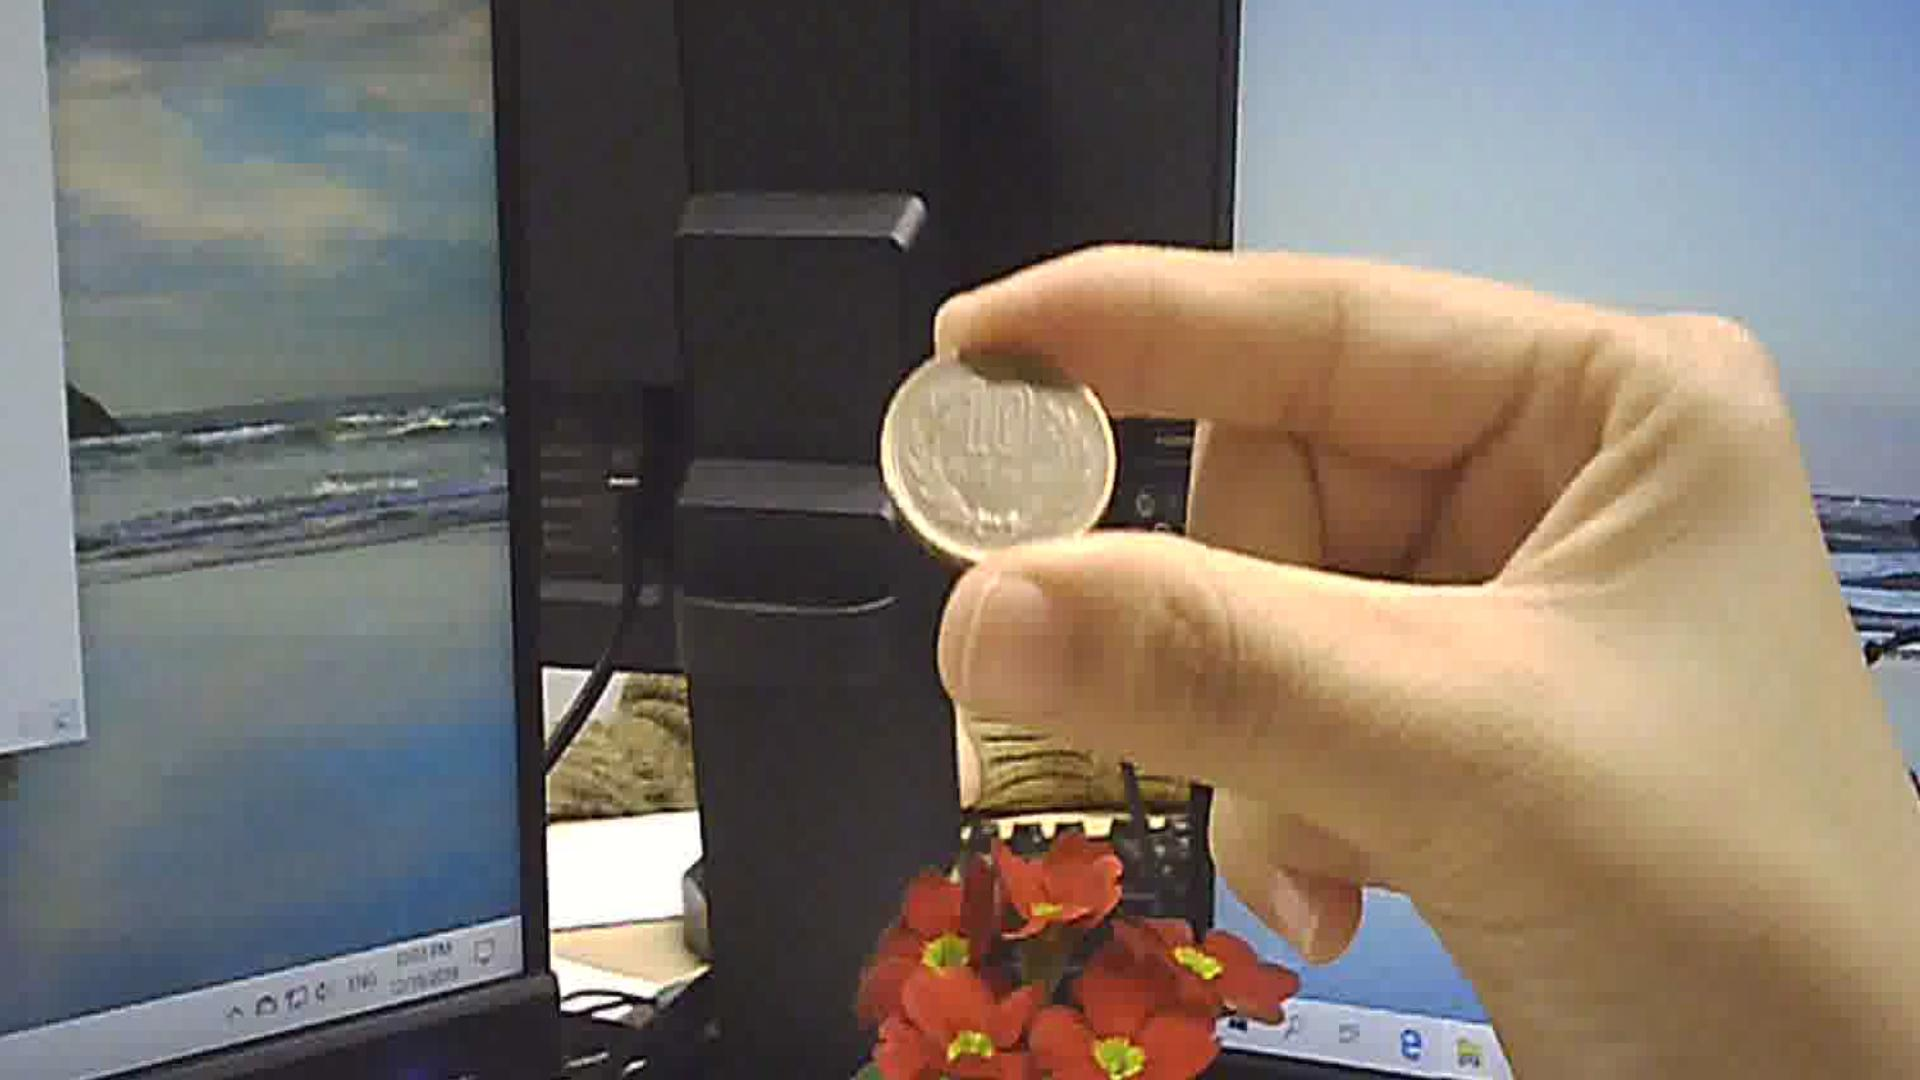10 Yen: (885, 342, 1124, 572)
